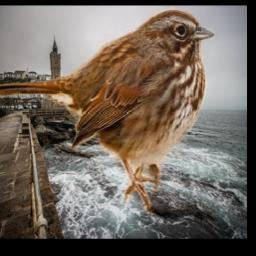Sparrow: (0, 7, 215, 215)
